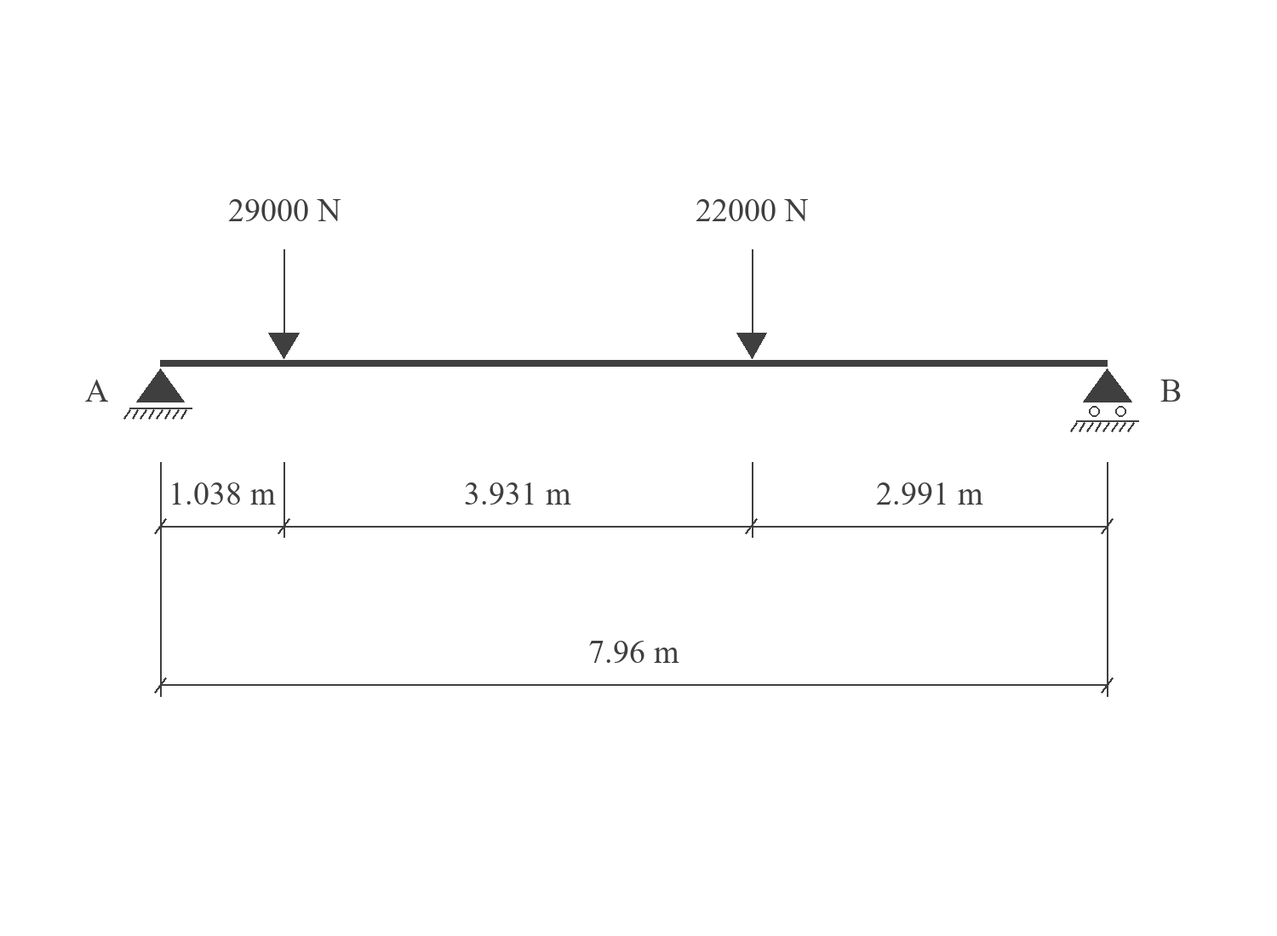pin_support: (123, 368, 192, 419)
point_load: (268, 249, 300, 359), (736, 249, 767, 359)
roller_support: (1070, 368, 1139, 432)
